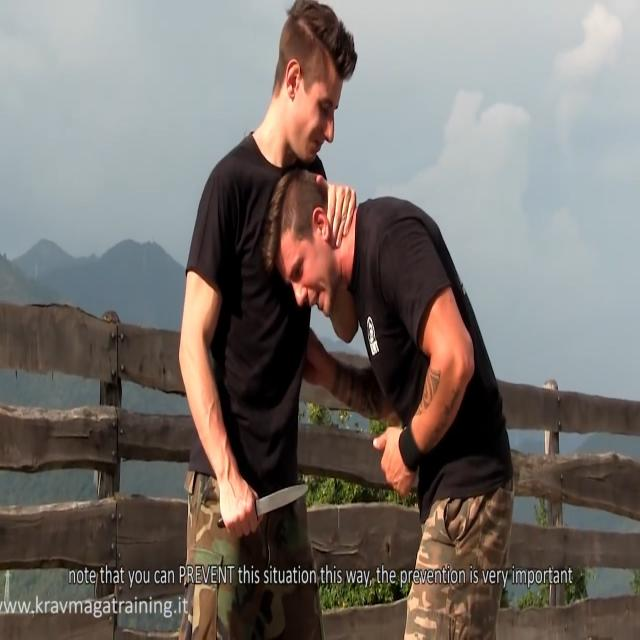knife: (257, 480, 312, 522)
